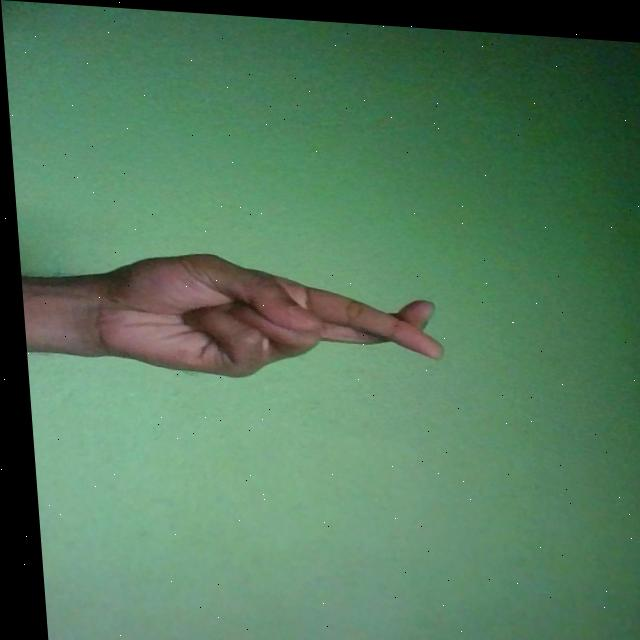Good Luck: (80, 245, 441, 386)
